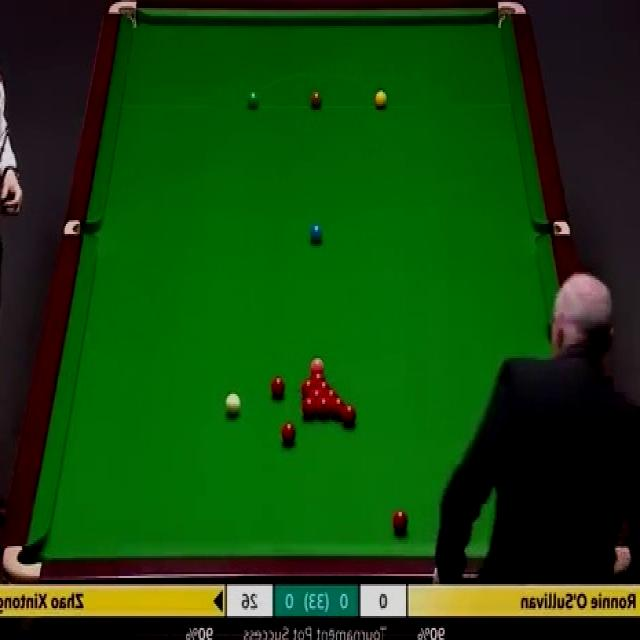blue-ball: (310, 222, 325, 244)
brown-ball: (309, 90, 322, 110)
green-ball: (247, 89, 260, 110)
pink-ball: (309, 356, 325, 370)
red-ball: (392, 510, 408, 538), (280, 422, 297, 447), (341, 405, 358, 428), (270, 376, 286, 400), (302, 396, 318, 419), (316, 395, 331, 419), (331, 397, 346, 420), (308, 387, 325, 400), (302, 379, 315, 395), (309, 370, 325, 383), (324, 388, 339, 401), (315, 380, 331, 390)
white-ball: (224, 391, 242, 416)
yellow-ball: (375, 88, 388, 109)
